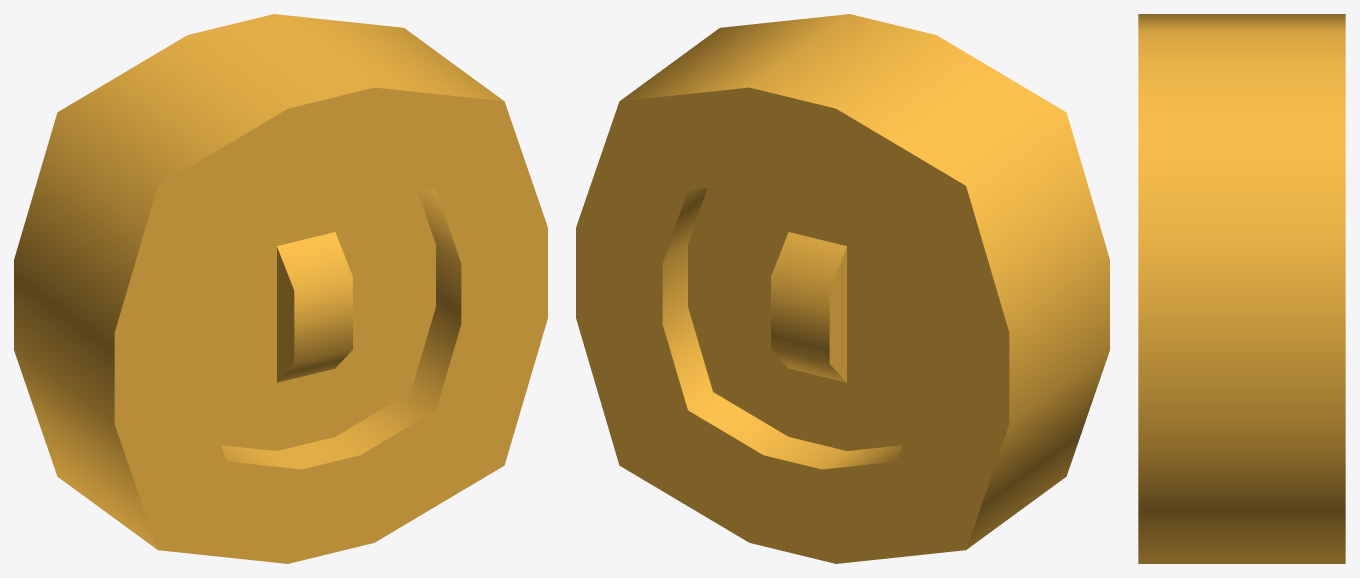
File: coin.glb
The picture shows the model from 3 angles, left to right: view 1: azimuth 30°, elevation 25°; view 2: azimuth 150°, elevation 25°; view 3: azimuth 270°, elevation 25°; orthographic projection. The views are drawn at different scales.
Visible parts, largest first — view 1: coin; view 2: coin; view 3: coin.
Boxes of the visible parts, box(x1,y1,x2,y2) form: coin: box(14, 14, 547, 563); coin: box(576, 14, 1109, 563); coin: box(1138, 14, 1345, 563).
Size of the model in its own units: 0.415 by 0.4167 by 0.1667.
